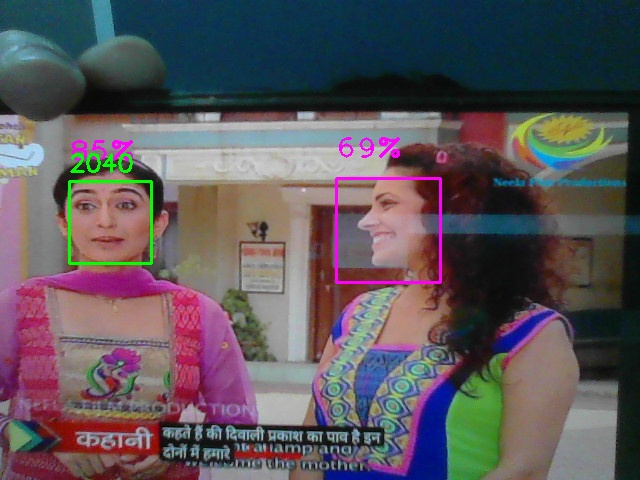fake: (69, 181, 152, 264)
